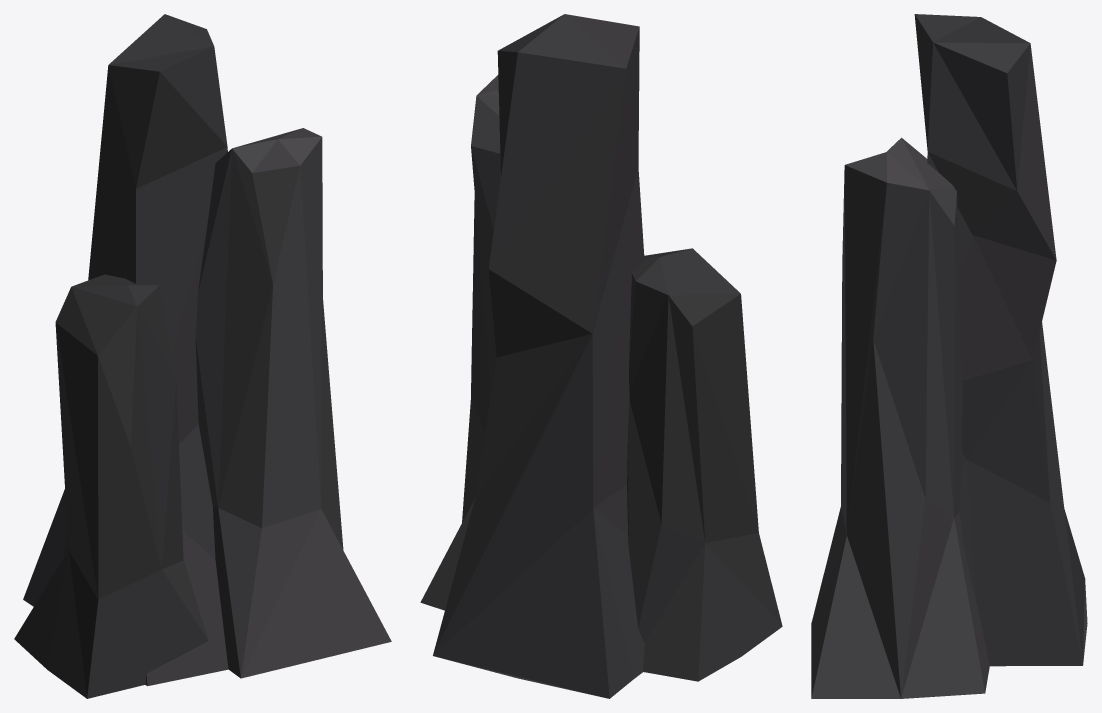
Rendered from AO_Rock05.fbx.
3 renders of one model, left to right at view 1: azimuth 30°, elevation 25°; view 2: azimuth 150°, elevation 25°; view 3: azimuth 270°, elevation 25°, orthographic. The views are drawn at different scales.
Visible parts, largest first — view 1: AO_Rock05; view 2: AO_Rock05; view 3: AO_Rock05.
Part boxes in pixels (x1=…): AO_Rock05: x1=14, y1=14, x2=391, y2=698; AO_Rock05: x1=420, y1=14, x2=782, y2=698; AO_Rock05: x1=811, y1=14, x2=1087, y2=698.
Size of the model in its own units: 137 by 265 by 111.
1 material, 1 textured.
